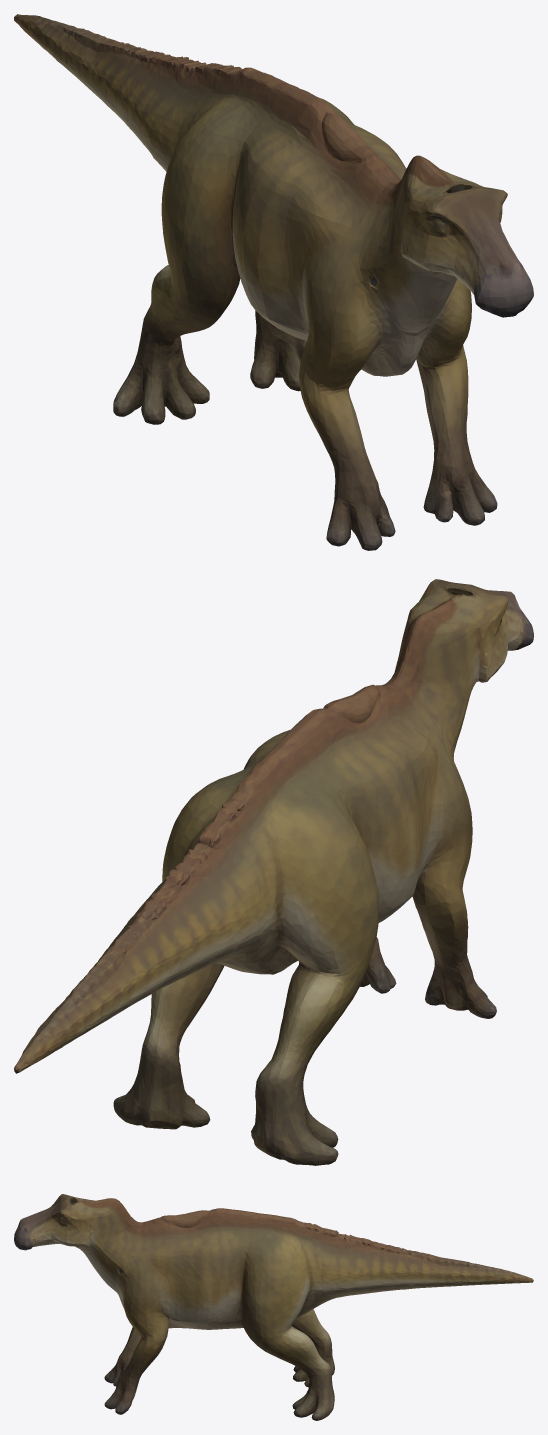
3 renders of one model, top to bottom at view 1: azimuth 30°, elevation 25°; view 2: azimuth 150°, elevation 25°; view 3: azimuth 270°, elevation 25°, orthographic. The views are drawn at different scales.
Parts seen in each view (by area): view 1: world; view 2: world; view 3: world.
Boxes of the visible parts, x1,y1,x2,y2 form: world: (14, 14, 533, 550); world: (14, 579, 533, 1165); world: (14, 1194, 533, 1420).
Bounding box in the file's own units: 0.2563 × 0.4188 × 1.
1 material, 1 textured.
